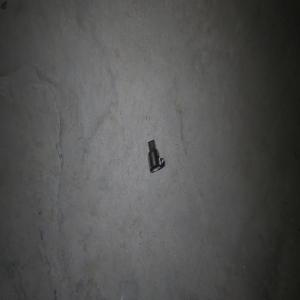MetalPart: (147, 138, 165, 172)
